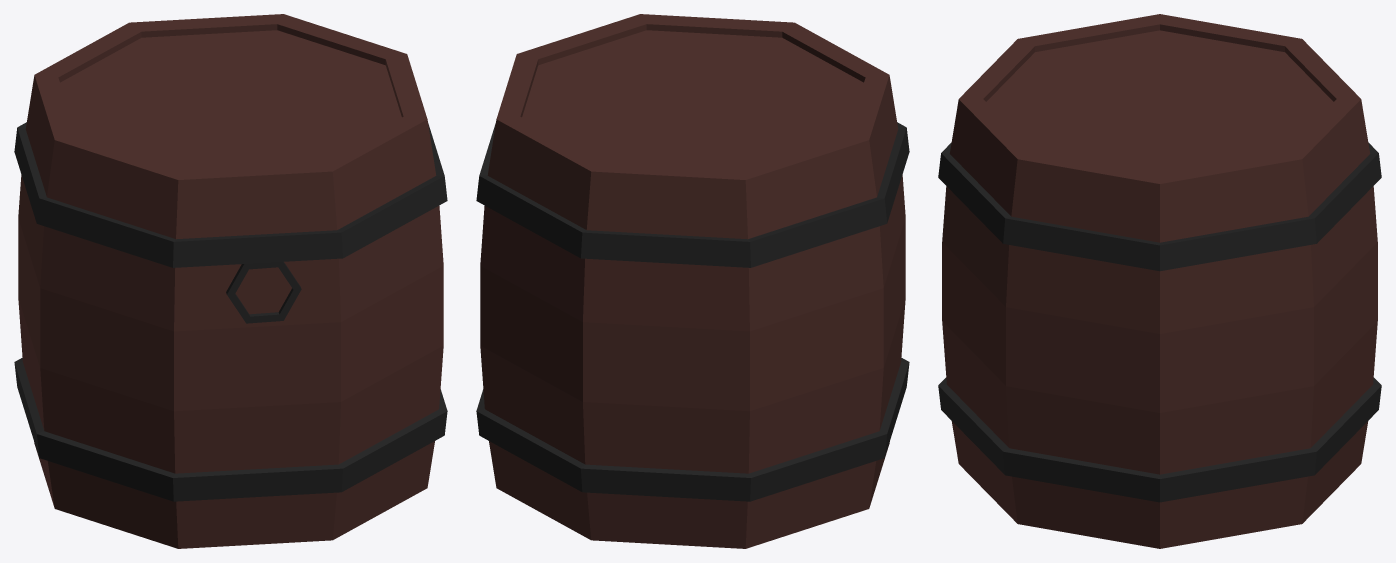
The model's file is UpdateBarrelV1.fbx.
3 views of the same model, side by side, from view 1: azimuth 30°, elevation 25°; view 2: azimuth 150°, elevation 25°; view 3: azimuth 270°, elevation 25° (orthographic).
Parts seen in each view (by area): view 1: Cylinder.023; view 2: Cylinder.023; view 3: Cylinder.023.
Boxes of the visible parts, x1,y1,x2,y2 form: Cylinder.023: (14, 14, 447, 548); Cylinder.023: (476, 14, 909, 548); Cylinder.023: (938, 14, 1381, 548).
Size of the model in its own units: 123 by 111 by 123.
